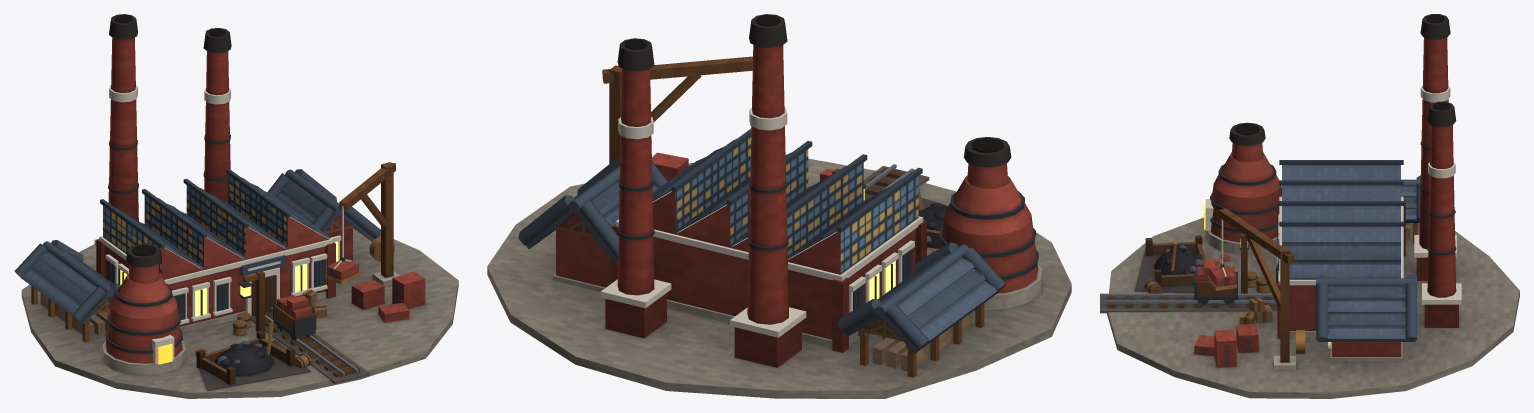
File: factory_l1.glb
3 views of the same model, side by side, from view 1: azimuth 30°, elevation 25°; view 2: azimuth 150°, elevation 25°; view 3: azimuth 270°, elevation 25° (orthographic). The views are drawn at different scales.
Parts seen in each view (by area): view 1: factory_l1; view 2: factory_l1; view 3: factory_l1.
Boxes of the visible parts, bbox=[...] form: factory_l1: bbox=[14, 14, 458, 398]; factory_l1: bbox=[487, 14, 1071, 398]; factory_l1: bbox=[1100, 14, 1519, 398].
Bounding box in the file's own units: 1.43 × 0.918 × 1.34.
4 materials, 1 textured.
